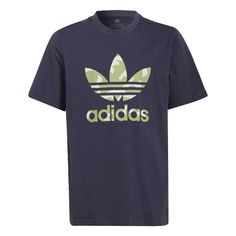adidas Originale: (81, 51, 157, 129)
